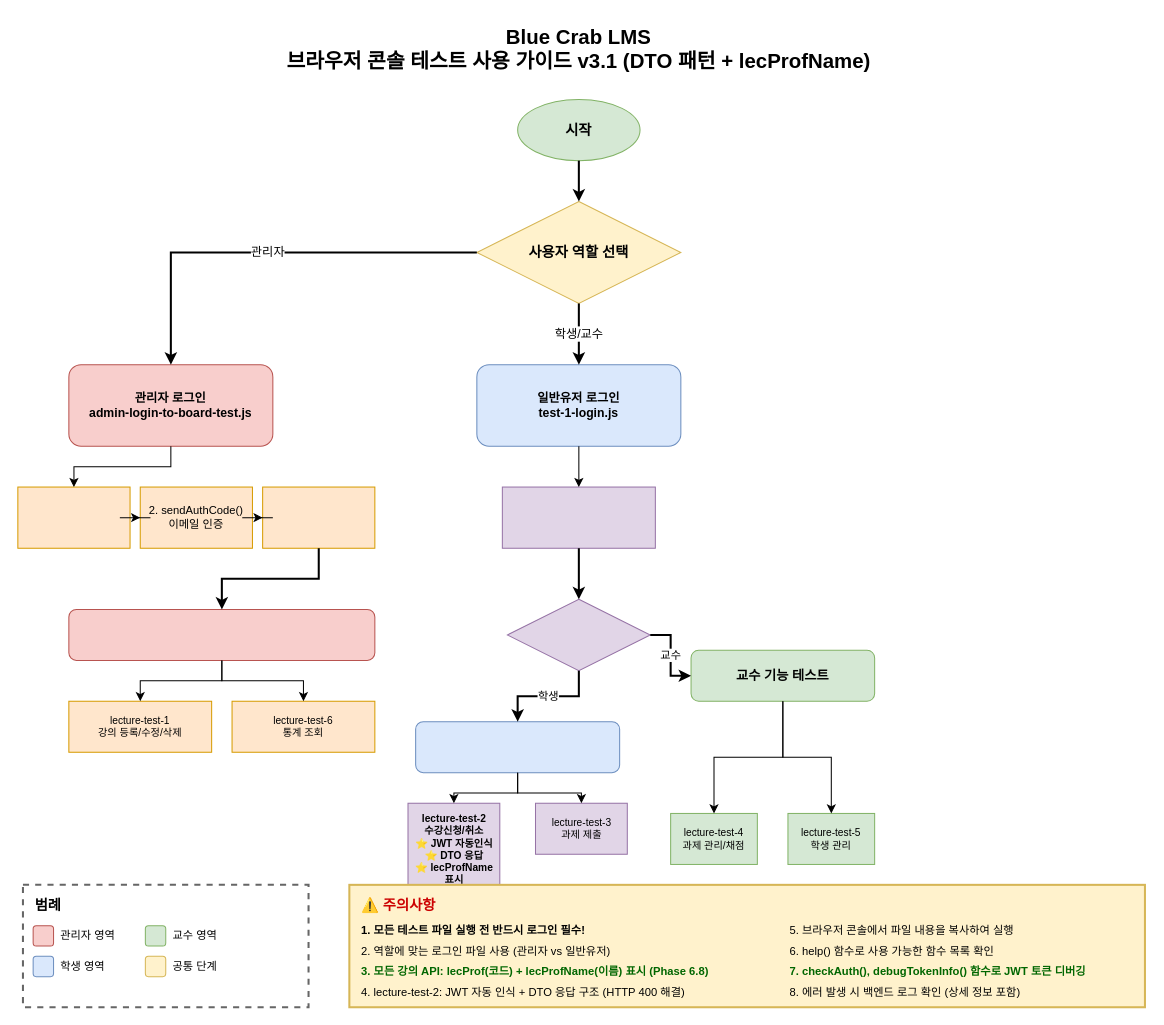
The diagram is 1164 pixels wide and 1025 high, and some of its shapes have lost their labels. The centre of each missing label's shape, as x and y in pixels:
"1. adminLogin() ID/PW 입력" belongs at [73,517].
"3. verifyAuthCode() 코드 확인" belongs at [318,517].
"login() ID/PW 입력 (학생 또는 교수 계정)" belongs at [578,517].
"관리자 기능 테스트" belongs at [221,634].
"학생 기능 테스트" belongs at [517,747].
"학생? 교수?" belongs at [578,634].
